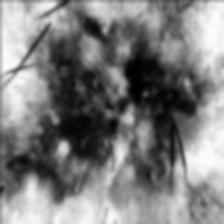Potentially Malignant Skin Tumors: (14, 12, 206, 192)
